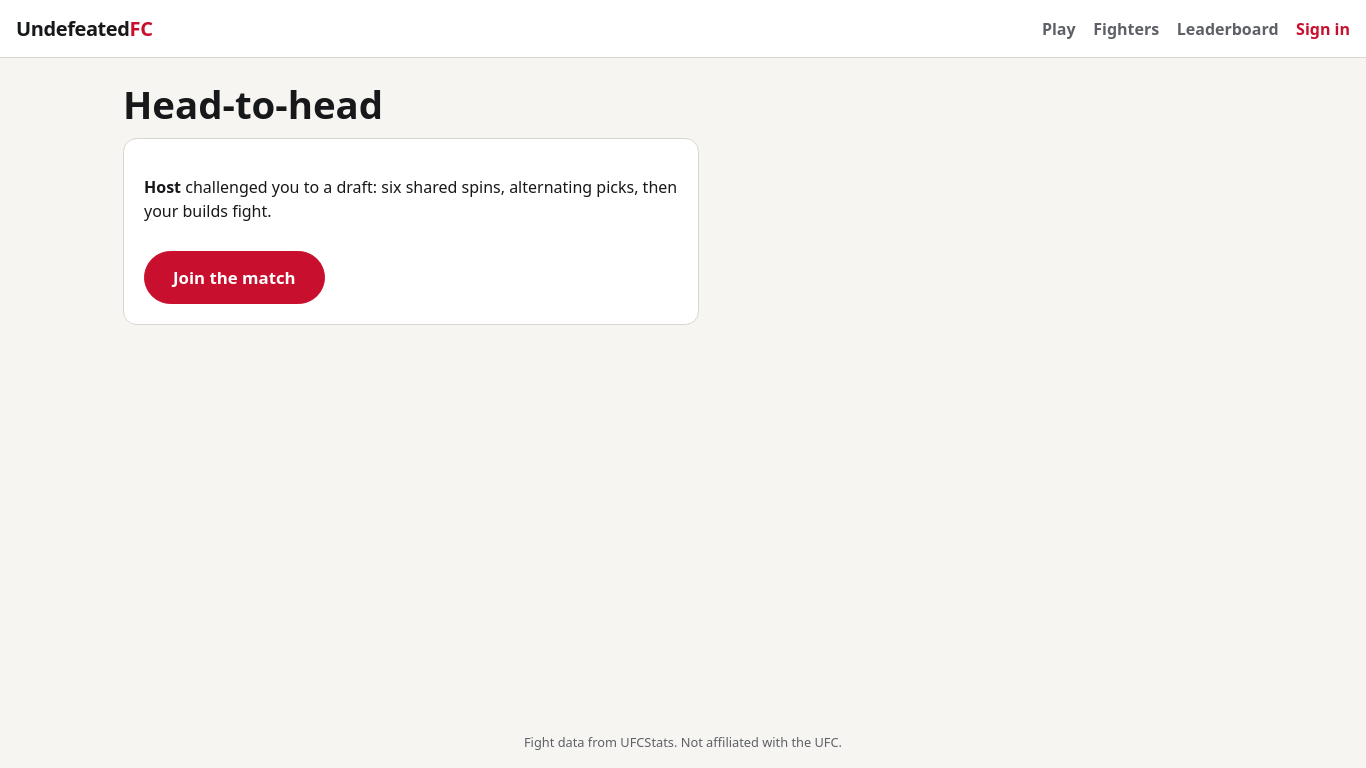
Scenario: a visitor with the link can join
Check: the text "challenged you to a draft" shows "Host challenged you", box [144,175,678,223]
Click the button "Join the match": coordinates (234, 278) [144,251,325,304]
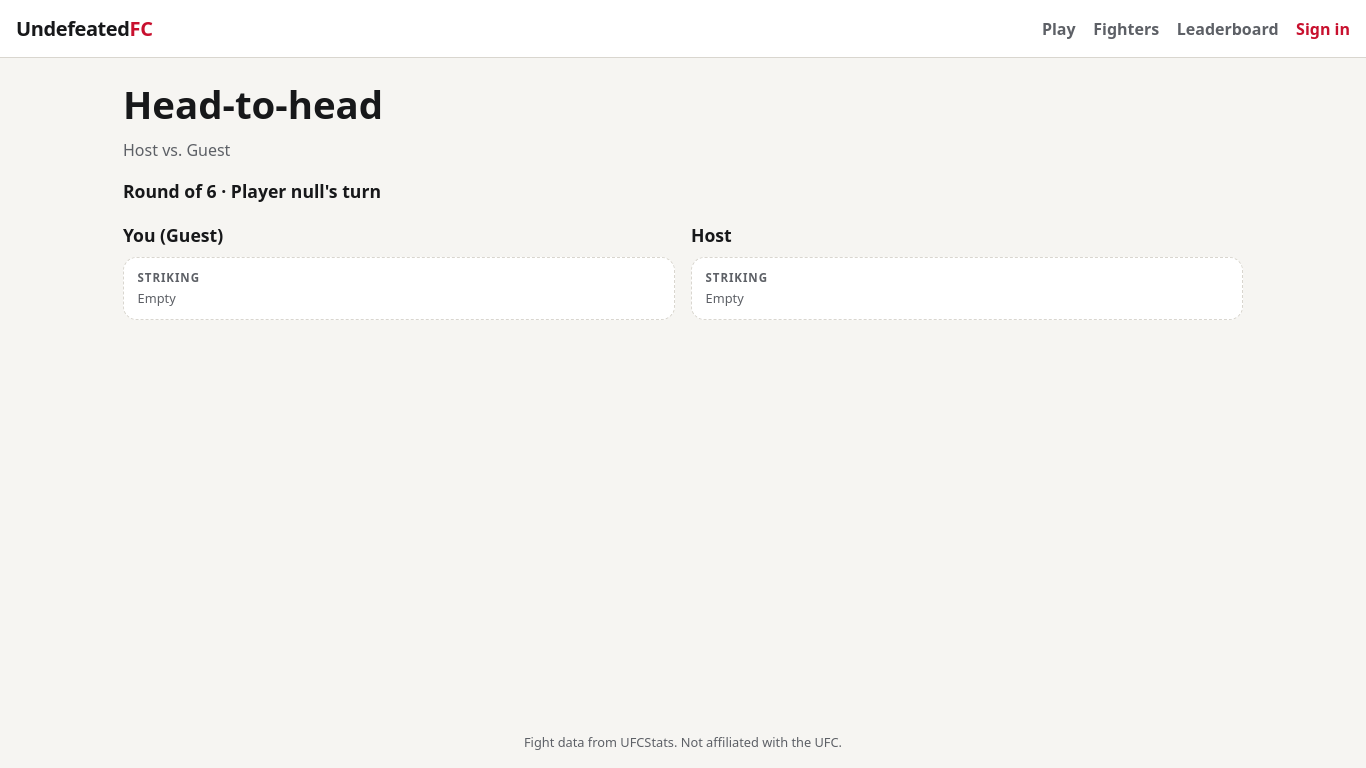
Check: the text "Host vs. Guest" is shown, box [123,139,230,161]
